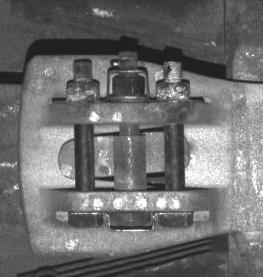Nut_s: (156, 81, 190, 101), (66, 81, 99, 100), (113, 76, 144, 95)
Screw_s: (74, 60, 92, 81), (164, 62, 182, 82), (120, 51, 137, 70)
